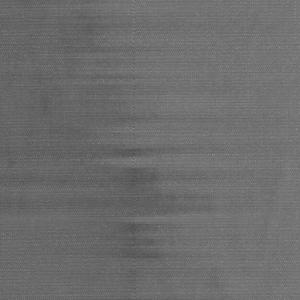Wrinkle: (1, 138, 300, 300)
